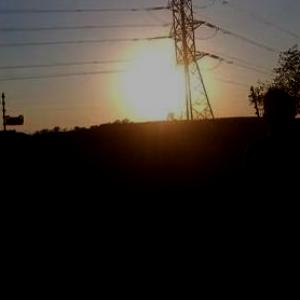follow: (225, 87, 300, 299)
